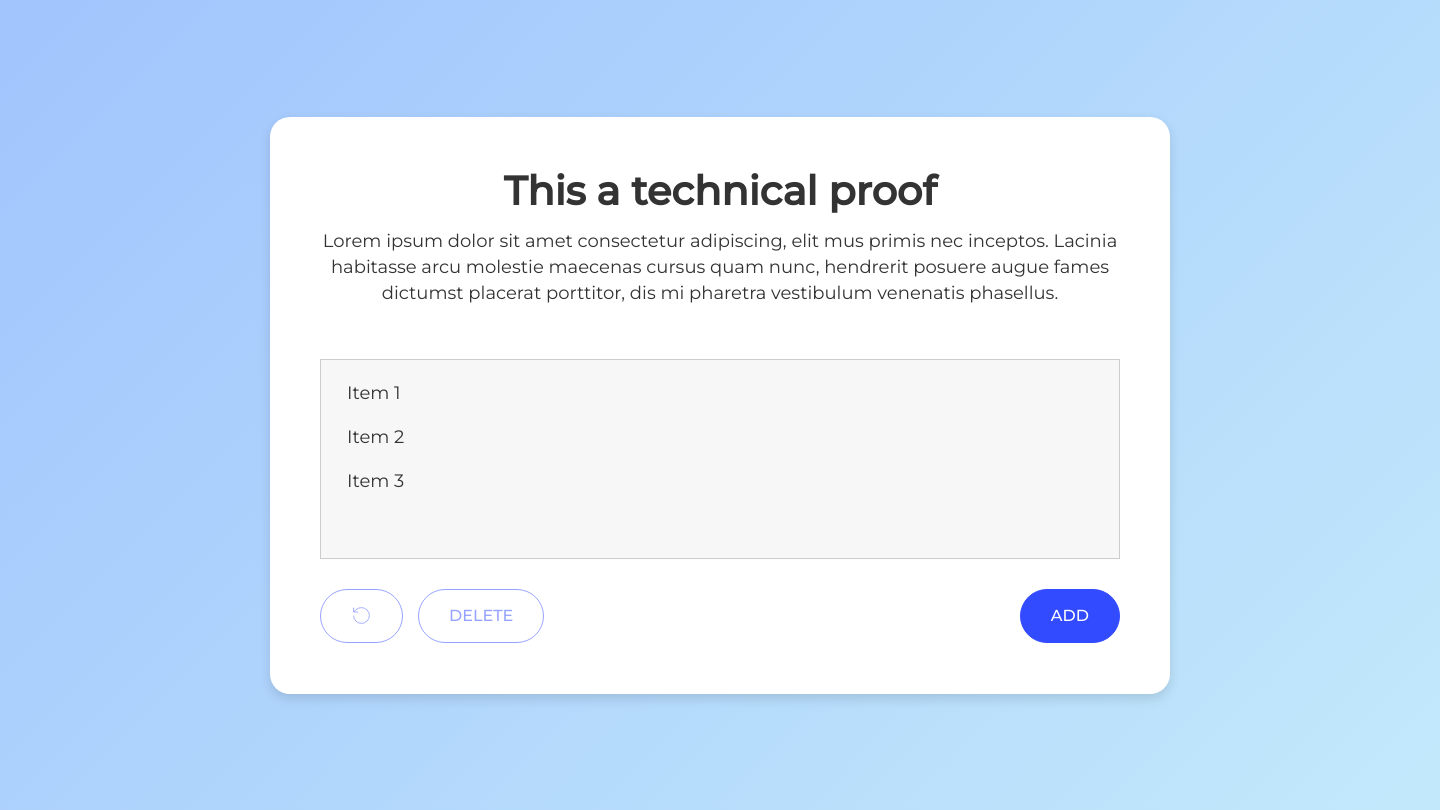
Scenario: Home › restores deleted items in their original positions on undo
The image size is (1440, 810).
Click the list item "Item 2" at point(376, 437), box top-left (347, 426), bottom-right (404, 448)
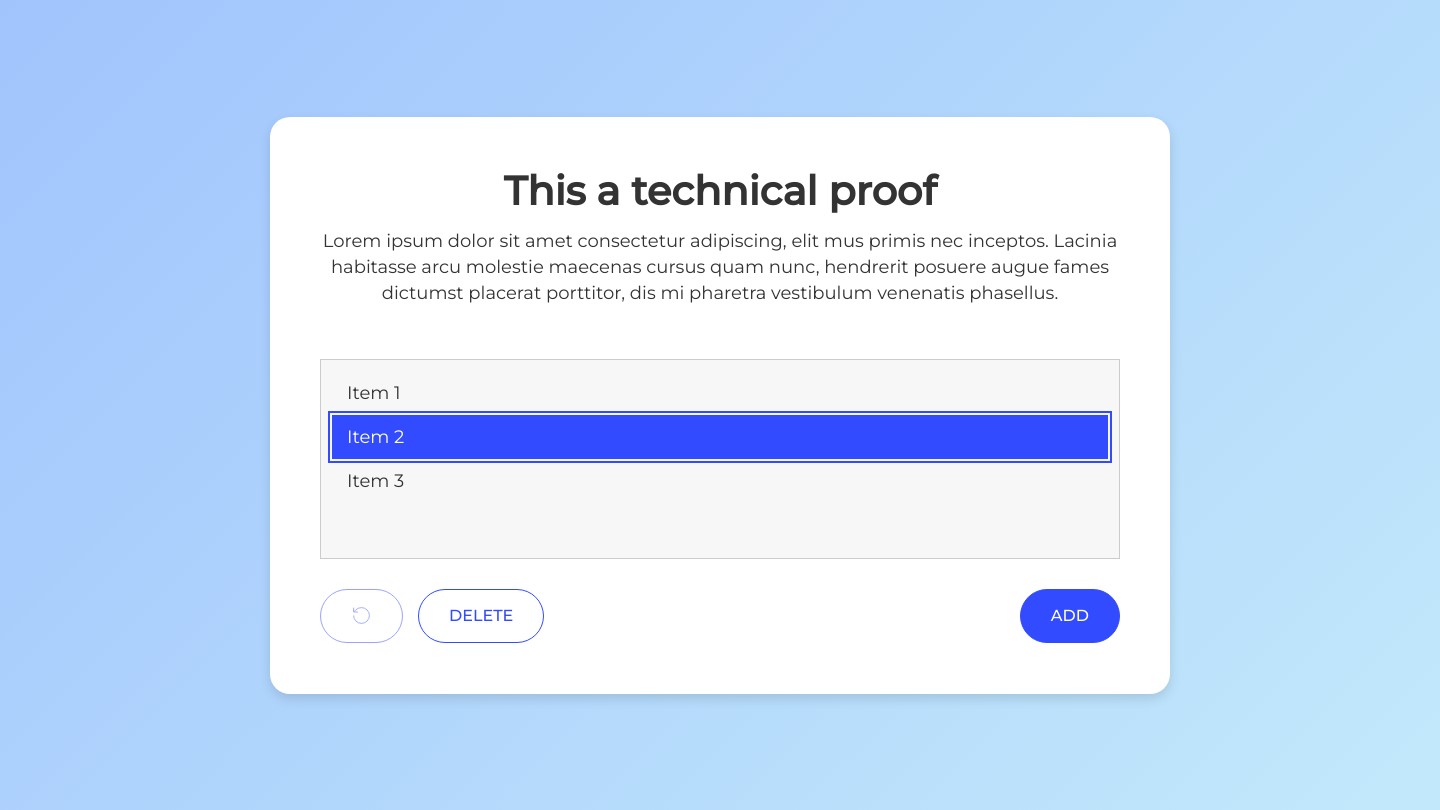
Click the button "Delete" at point(481, 616), box top-left (418, 589), bottom-right (544, 643)
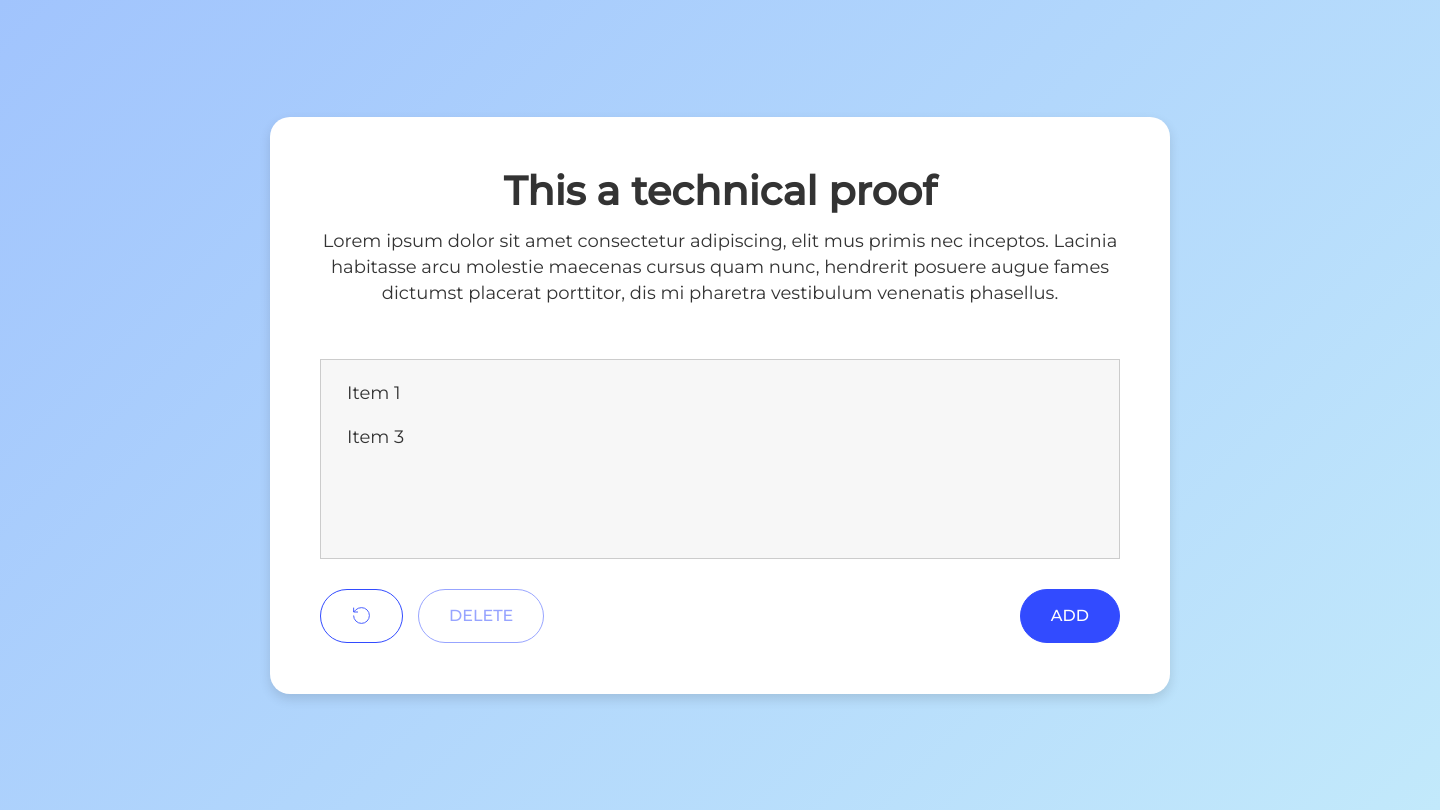
Expected: the list item "Item 2" is gone
Click the button named "Undo action" at point(362, 616), box top-left (320, 589), bottom-right (403, 643)
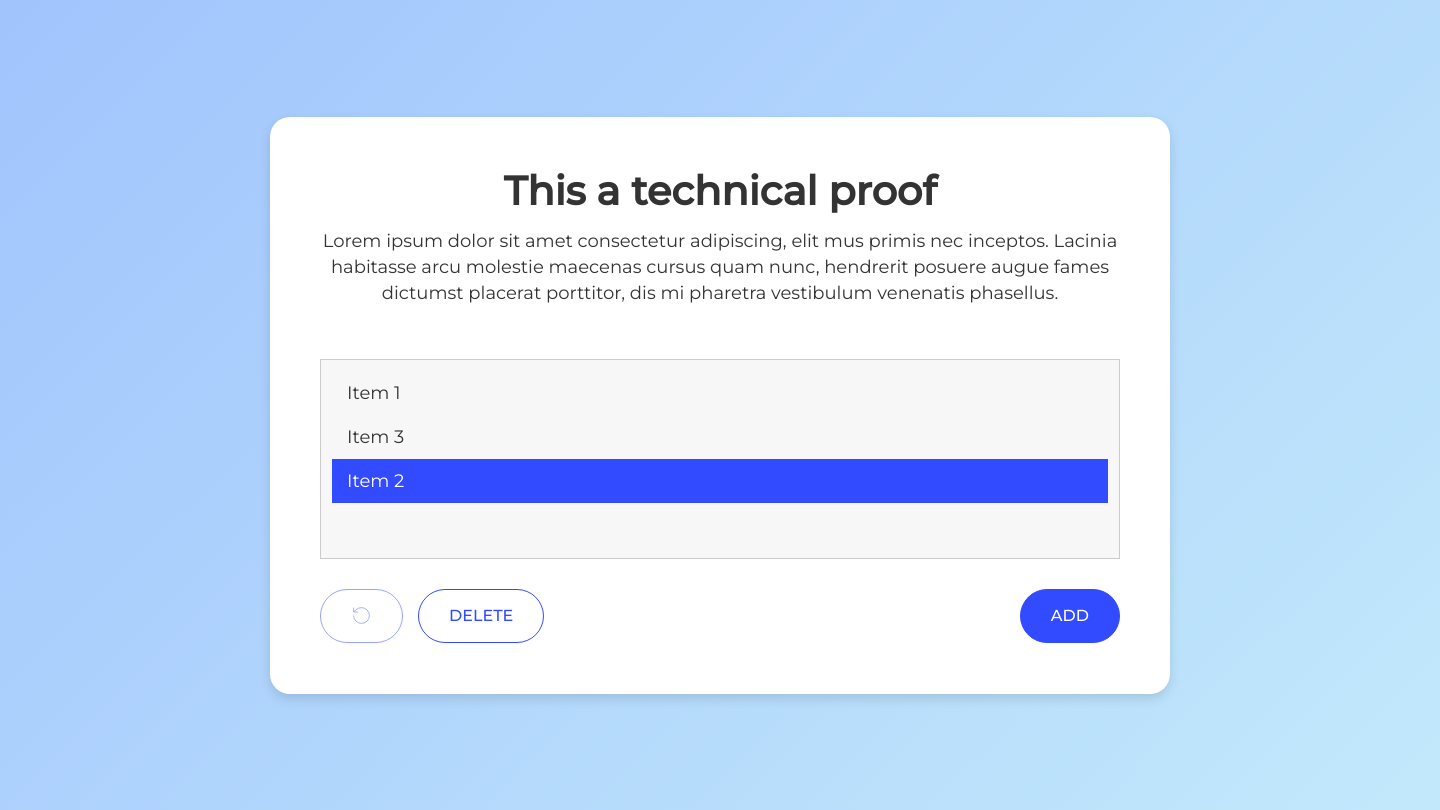
Expected: the list item "Item 2" is shown, top-left (332, 459), bottom-right (1108, 503)
